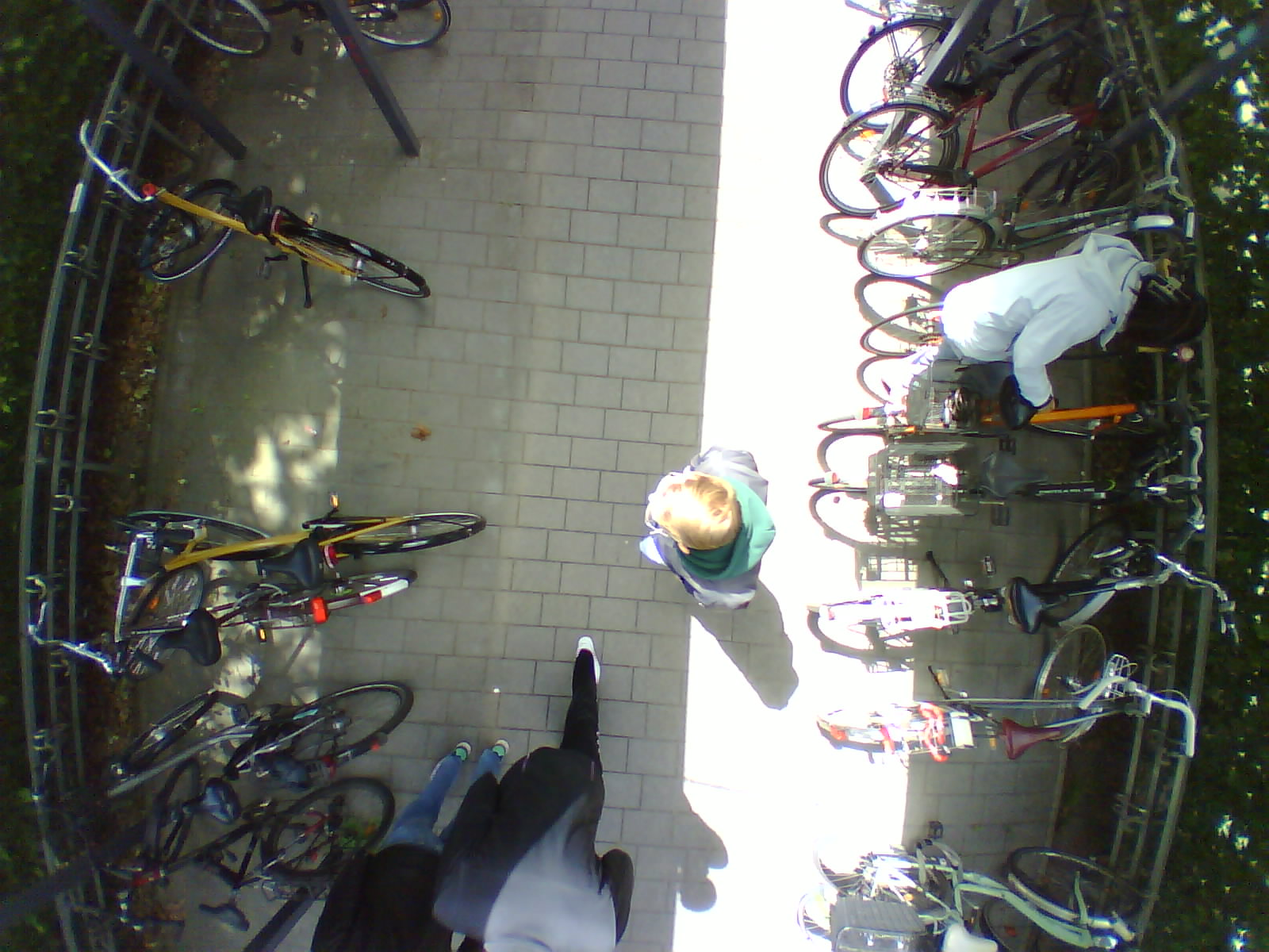bicylce: (807, 84, 1127, 244), (797, 525, 1168, 650), (810, 636, 1121, 785), (111, 159, 425, 305), (806, 819, 1150, 951), (96, 765, 393, 915), (25, 565, 417, 670), (120, 677, 416, 804), (802, 435, 1206, 527), (105, 511, 486, 607), (835, 176, 1177, 280), (840, 19, 1134, 132), (819, 389, 1167, 447)
saddle: (982, 445, 1052, 504), (154, 610, 223, 668), (256, 539, 322, 594), (1004, 580, 1067, 635), (217, 184, 277, 237), (998, 375, 1057, 425), (997, 720, 1063, 763), (179, 780, 238, 828), (959, 42, 1017, 85), (195, 901, 253, 934), (940, 920, 998, 952)
